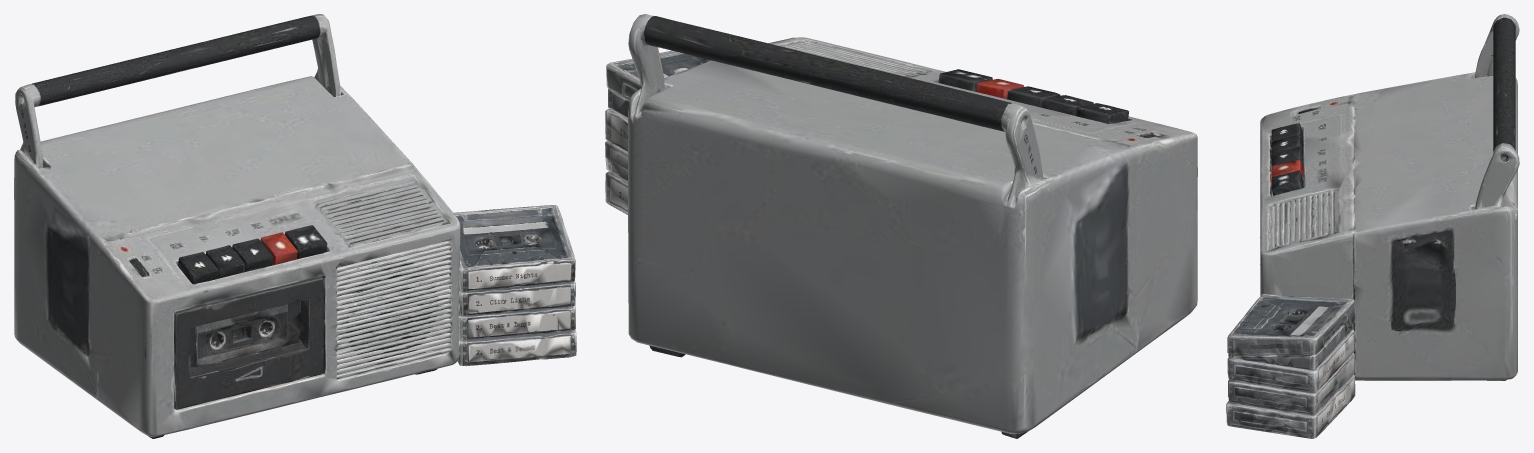
Rendered from recorder.glb.
The picture shows the model from 3 angles, left to right: view 1: azimuth 30°, elevation 25°; view 2: azimuth 150°, elevation 25°; view 3: azimuth 270°, elevation 25°; orthographic projection. The views are drawn at different scales.
Bounding box in the file's own units: 1.9 × 1.08 × 1.2.
Materials: 1 (1 with a texture image).
